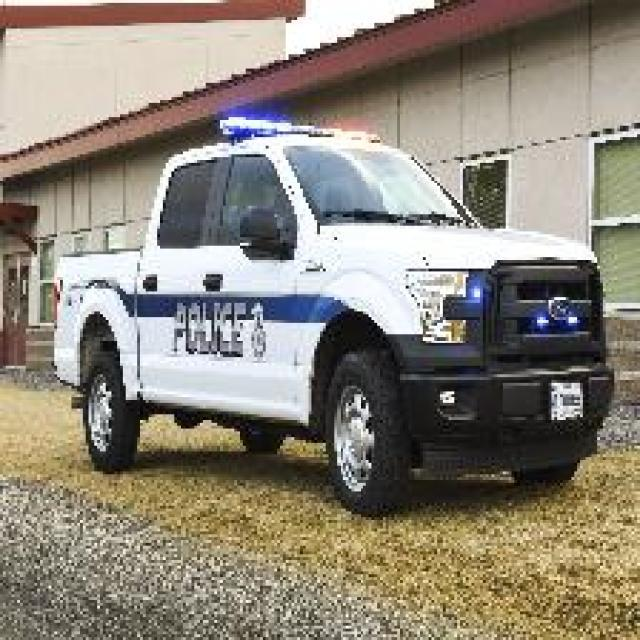emergency: (49, 117, 616, 520)
